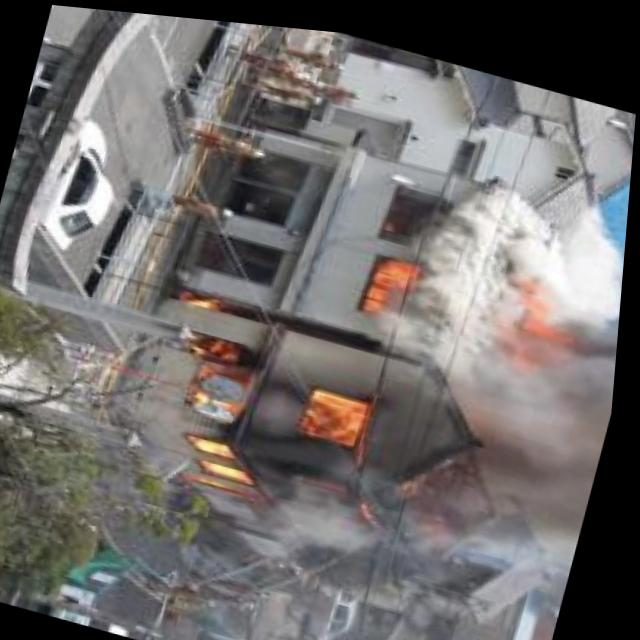Fire: (154, 324, 418, 528), (492, 267, 601, 385), (358, 240, 422, 319)
